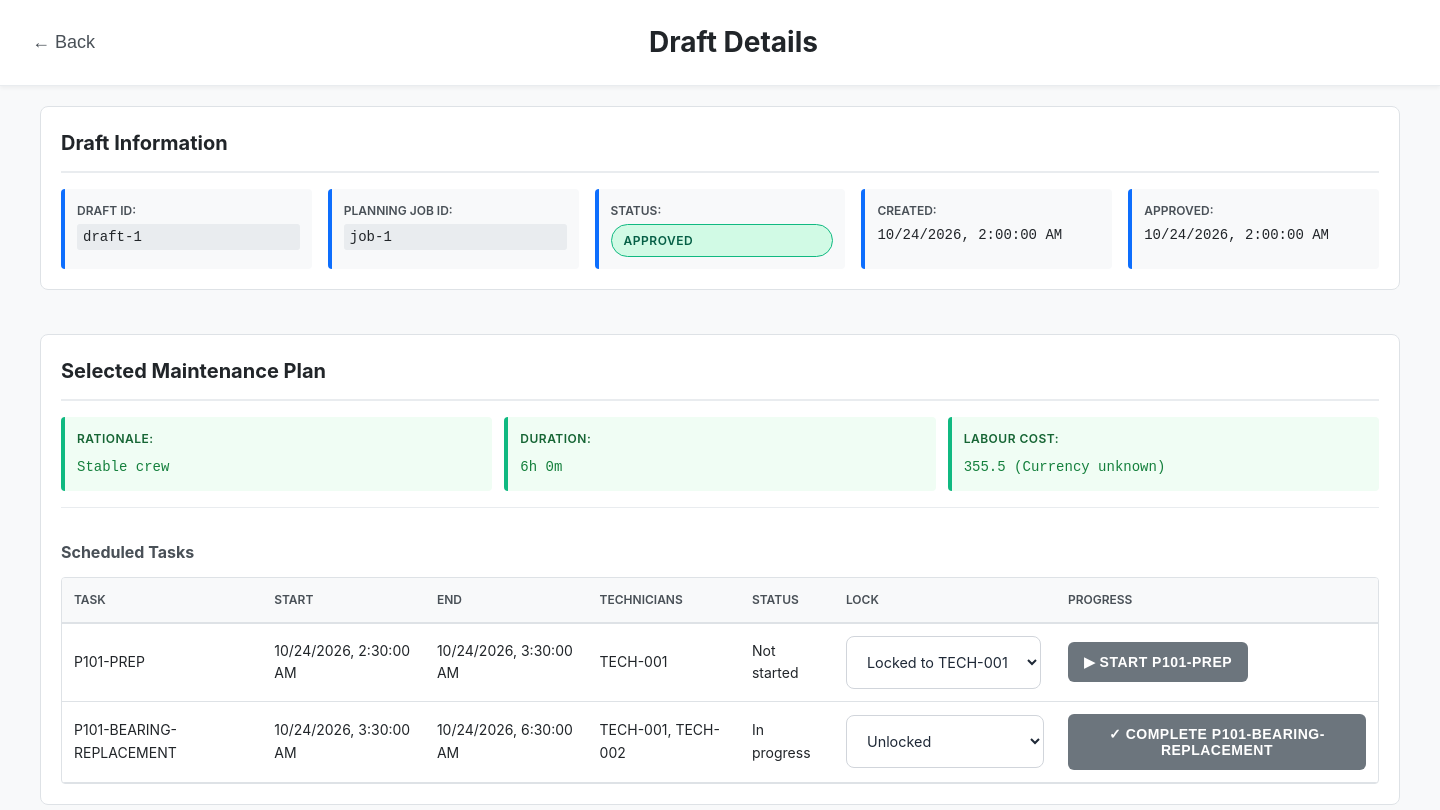
Scenario: DraftDetailScreen draft management › shows the API error when a task transition is rejected, without a success message
Click the button "▶ Start P101-PREP".
click(1158, 662)  # box top-left (1068, 642), bottom-right (1248, 682)
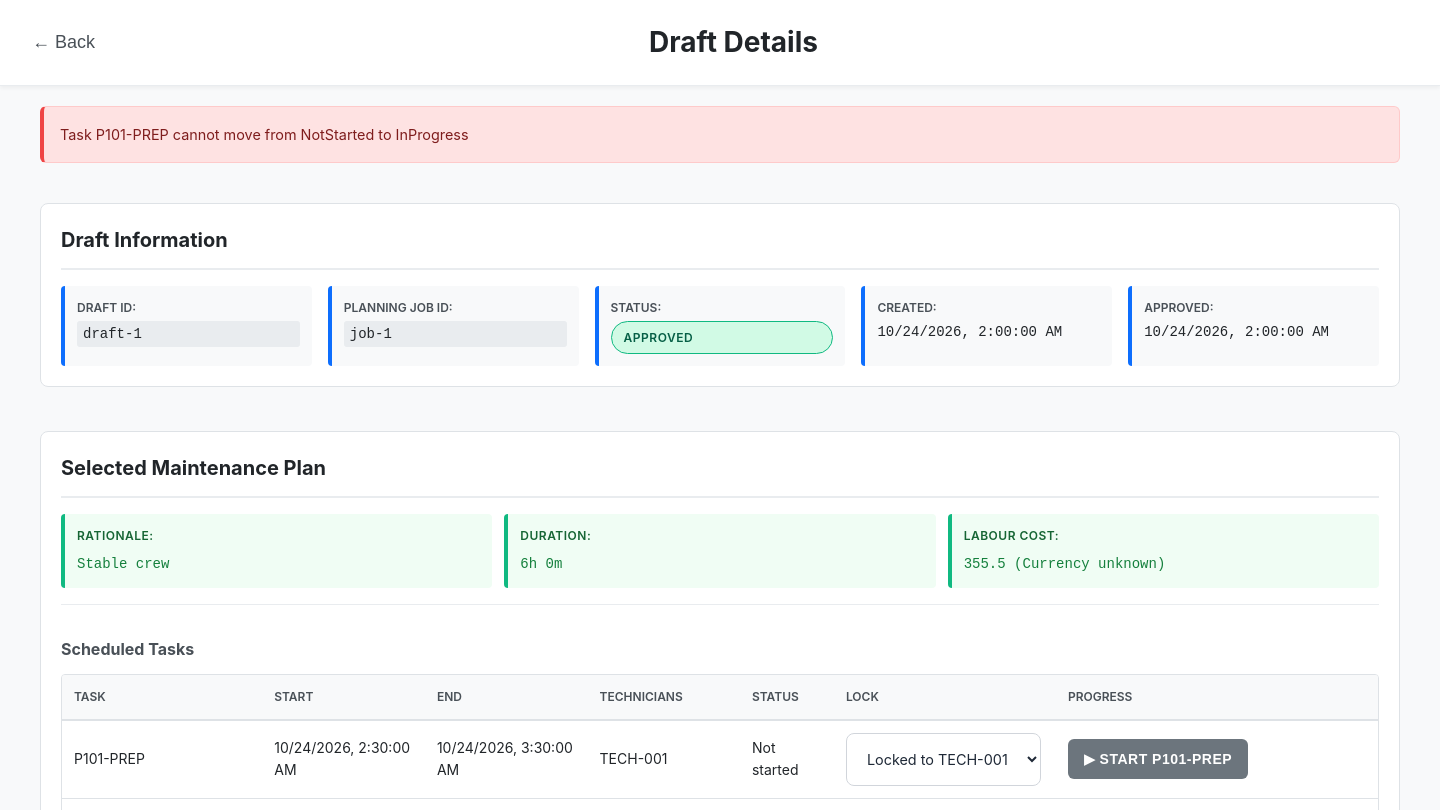
expect the message shows "cannot move from NotStarted to InProgress": met, box top-left (60, 126), bottom-right (468, 143)
